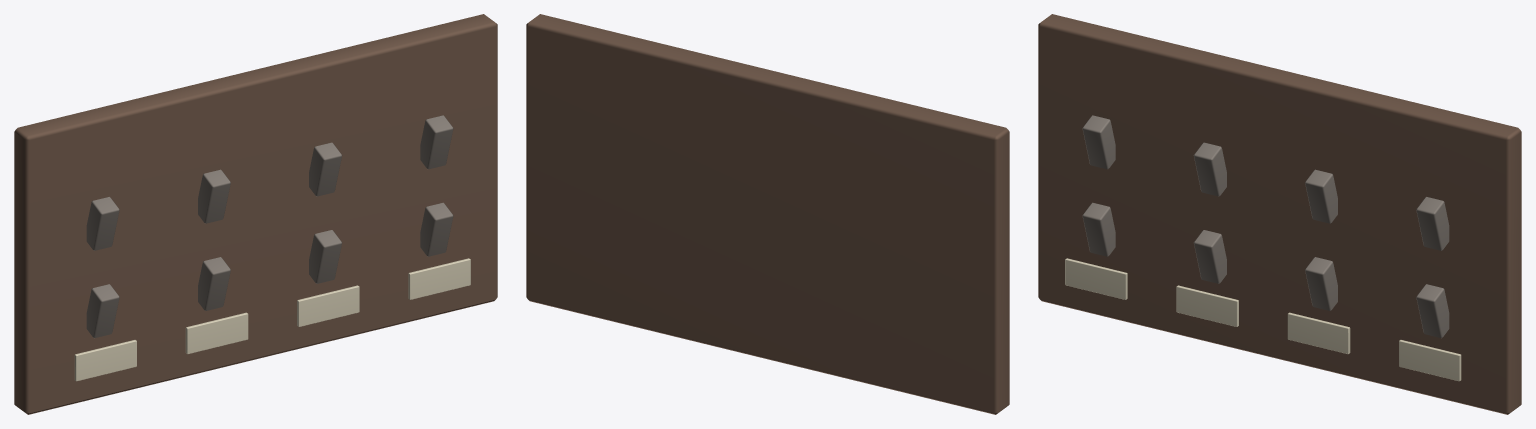
Rendered from prop_key_board_empty_01.glb.
3 renders of one model, left to right at view 1: azimuth 30°, elevation 25°; view 2: azimuth 150°, elevation 25°; view 3: azimuth 330°, elevation 25°, orthographic.
Parts seen in each view (by area): view 1: key_board_base.002, old_key_label_02.002, old_key_label_04.002, old_key_label_01.002, old_key_label_03.002, empty_key_hook_01.002, empty_key_hook_05.002, empty_key_hook_08.002, empty_key_hook_04.002, empty_key_hook_03.002, empty_key_hook_07.002, empty_key_hook_02.002 (+1 smaller); view 2: key_board_base.002; view 3: key_board_base.002, old_key_label_03.002, old_key_label_01.002, old_key_label_04.002, old_key_label_02.002, empty_key_hook_04.002, empty_key_hook_05.002, empty_key_hook_08.002, empty_key_hook_01.002, empty_key_hook_02.002, empty_key_hook_06.002, empty_key_hook_03.002 (+1 smaller).
Boxes of the visible parts, x1,y1,x2,y2 form: key_board_base.002: (14,14,497,414); old_key_label_02.002: (185,312,248,354); old_key_label_04.002: (408,258,470,299); old_key_label_01.002: (74,340,136,381); old_key_label_03.002: (297,285,359,326); empty_key_hook_01.002: (86,197,119,250); empty_key_hook_05.002: (86,284,119,338); empty_key_hook_08.002: (420,202,453,256); empty_key_hook_04.002: (420,115,453,169); empty_key_hook_03.002: (309,142,342,196); empty_key_hook_07.002: (309,230,342,283); empty_key_hook_02.002: (198,169,230,223); key_board_base.002: (526,14,1009,414); key_board_base.002: (1038,14,1521,414); old_key_label_03.002: (1287,312,1350,354); old_key_label_01.002: (1065,258,1127,299); old_key_label_04.002: (1399,340,1461,381); old_key_label_02.002: (1176,285,1238,326); empty_key_hook_04.002: (1416,197,1449,250); empty_key_hook_05.002: (1082,202,1115,256); empty_key_hook_08.002: (1416,284,1449,338); empty_key_hook_01.002: (1082,115,1115,169); empty_key_hook_02.002: (1193,142,1226,196); empty_key_hook_06.002: (1193,230,1226,283); empty_key_hook_03.002: (1305,169,1337,223).
Size of the model in its own units: 0.85 by 0.48 by 0.0906.
